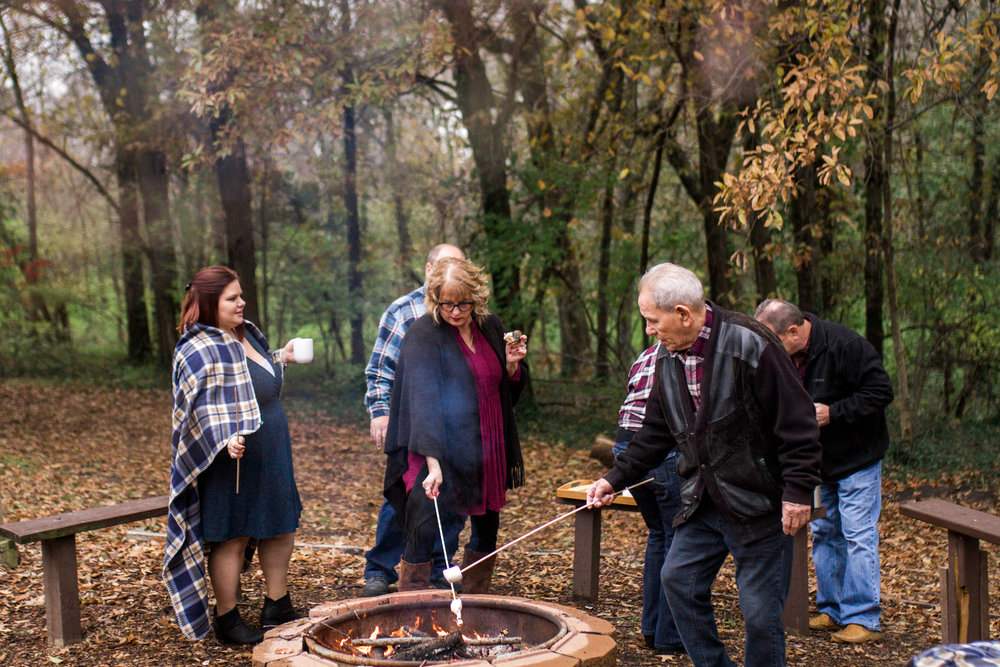Person: (640, 288, 780, 588), (190, 273, 305, 618), (410, 238, 530, 563)
